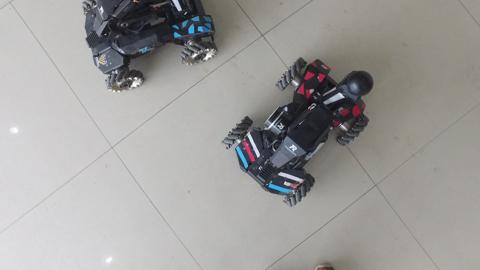chariot: (218, 53, 373, 213), (75, 1, 225, 100)
